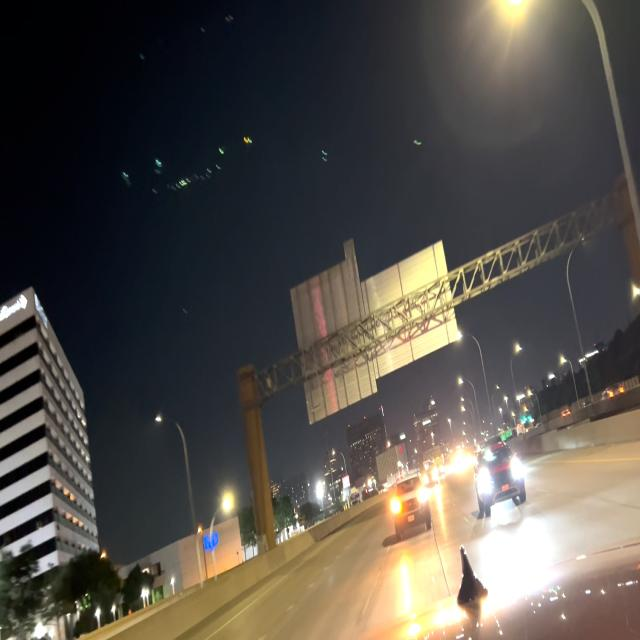back-of-sign: (290, 240, 459, 426)
